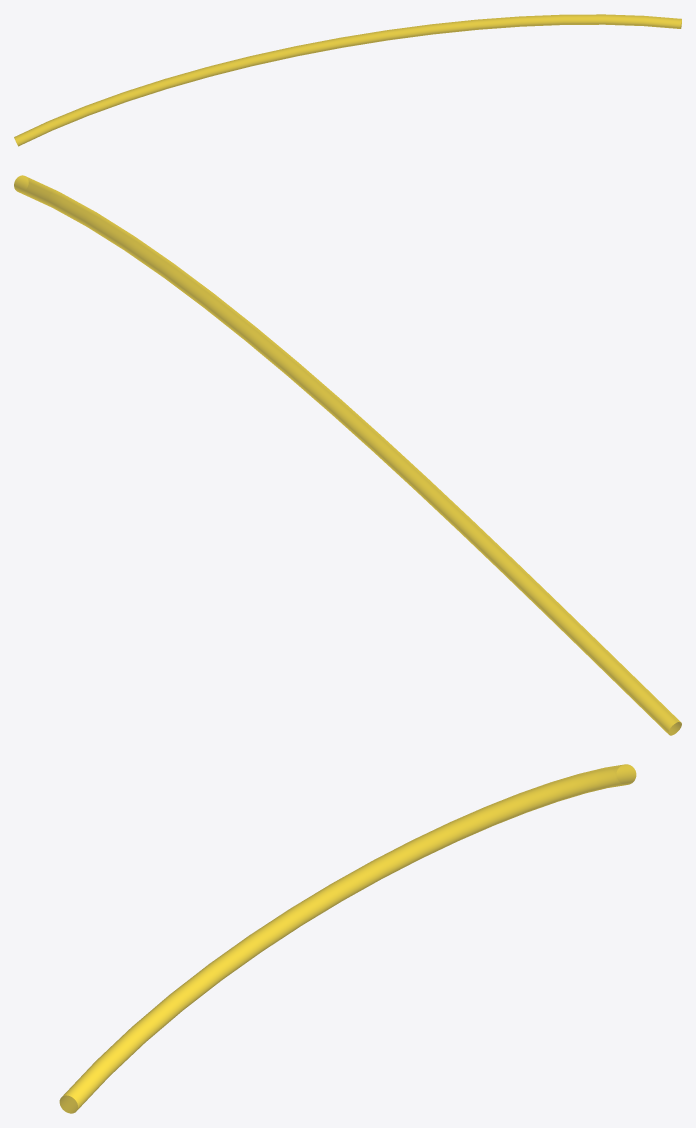
The model's file is Event_75125125_track_52.fbx.
3 renders of one model, top to bottom at view 1: azimuth 30°, elevation 25°; view 2: azimuth 150°, elevation 25°; view 3: azimuth 270°, elevation 25°, orthographic. The views are drawn at different scales.
Parts seen in each view (by area): view 1: Model; view 2: Model; view 3: Model.
Part boxes in pixels (x1,y1,x2,y2): Model: (14, 14, 681, 146); Model: (14, 175, 681, 735); Model: (59, 764, 636, 1113).
Size of the model in its own units: 2.36 by 0.4562 by 1.11.
